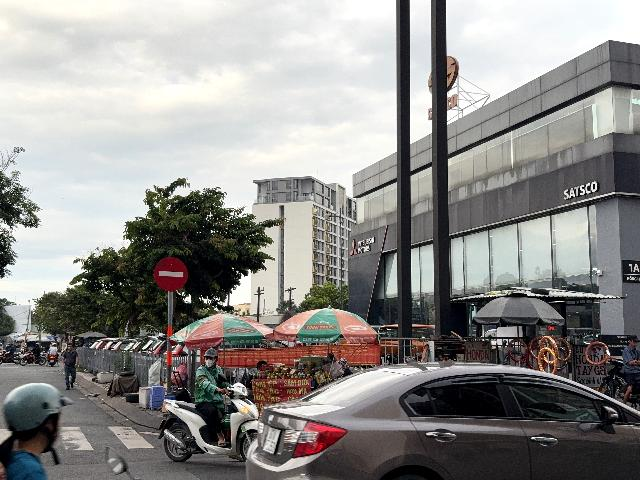cam-di-nguoc-chieu: (154, 257, 188, 292)
